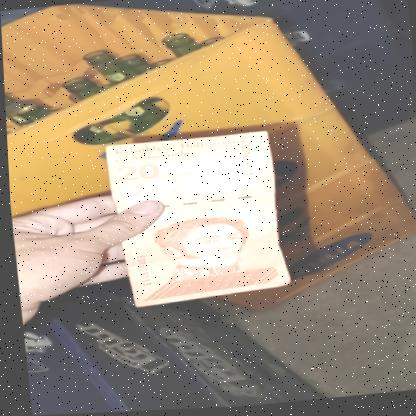twenty-front-vef: (102, 129, 288, 310)
